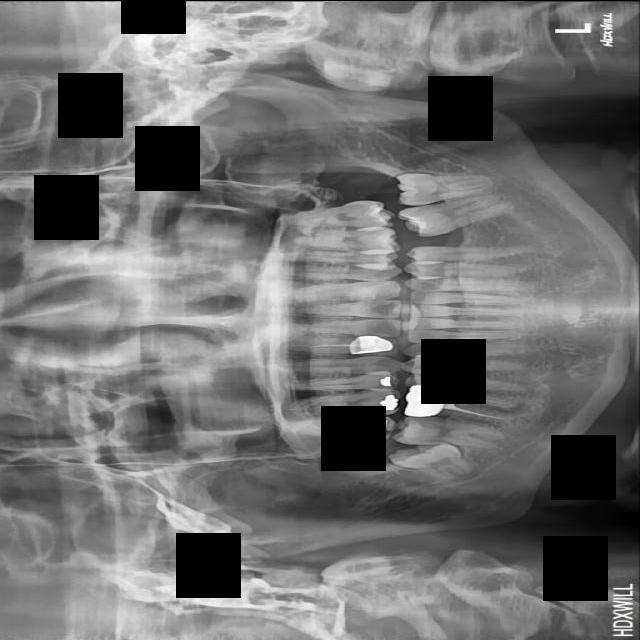52: (402, 380, 447, 421), (348, 412, 396, 445), (355, 386, 402, 417), (349, 333, 399, 357), (360, 370, 399, 391)
73: (435, 388, 518, 425), (254, 336, 356, 356), (576, 36, 582, 40)
BioHorizons Implant: (277, 197, 397, 229)
Biomet 3i Implant: (394, 172, 490, 205)
Blue Sky Bio Implant: (397, 188, 515, 241)
Implant: (392, 414, 507, 449)
Keystone Dental Implant: (387, 426, 476, 487)
